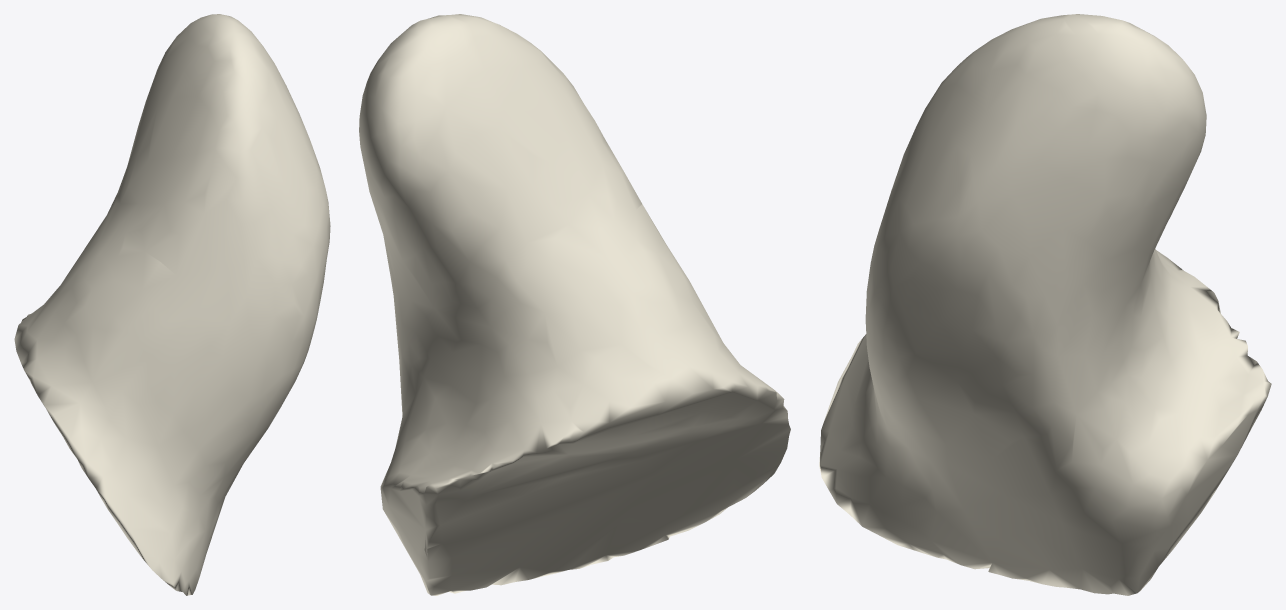
File: fma59501_mm1126.glb
The picture shows the model from 3 angles, left to right: view 1: azimuth 30°, elevation 25°; view 2: azimuth 150°, elevation 25°; view 3: azimuth 270°, elevation 25°; orthographic projection. The views are drawn at different scales.
Parts seen in each view (by area): view 1: FMA59501_MM1126; view 2: FMA59501_MM1126; view 3: FMA59501_MM1126.
Part boxes in pixels (bbox=[...]): FMA59501_MM1126: bbox=[14, 14, 330, 595]; FMA59501_MM1126: bbox=[359, 14, 790, 595]; FMA59501_MM1126: bbox=[819, 14, 1271, 595].
Bounding box in the file's own units: 0.00406 × 0.00657 × 0.00451.
